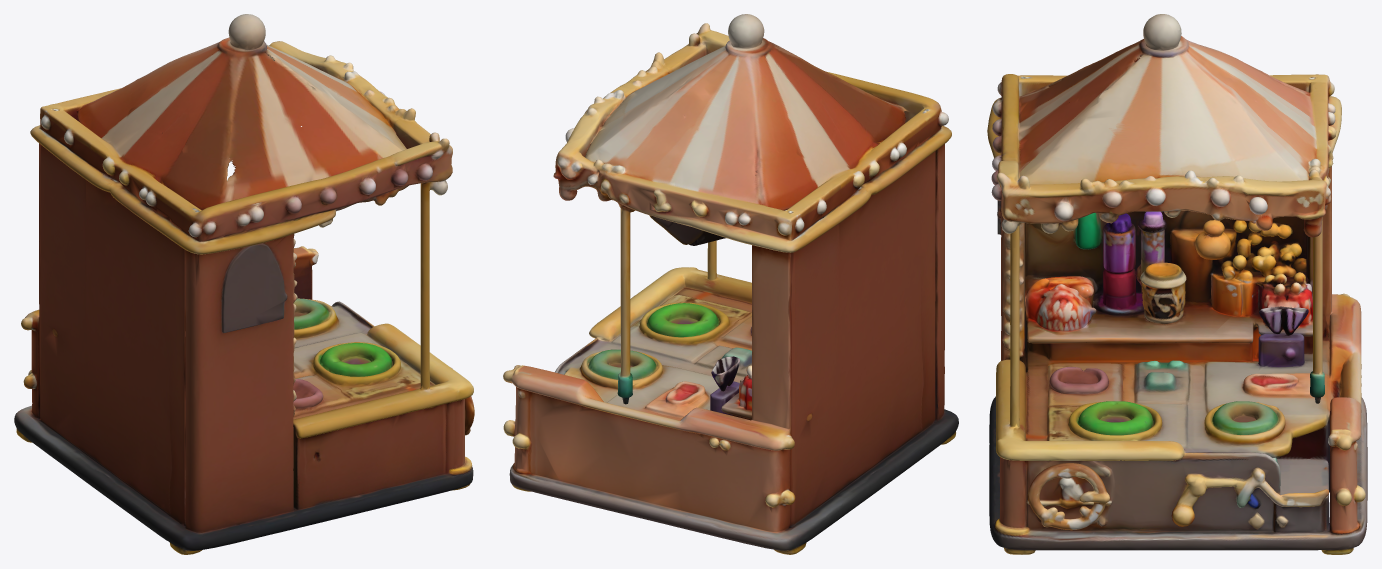
The model's file is building-ring-toss.glb.
3 renders of one model, left to right at view 1: azimuth 30°, elevation 25°; view 2: azimuth 150°, elevation 25°; view 3: azimuth 270°, elevation 25°, orthographic. The views are drawn at different scales.
Visible parts, largest first — view 1: tripo_node_3bd203f2-3d1e-4e14-b4ae-5f3b6ad76c27; view 2: tripo_node_3bd203f2-3d1e-4e14-b4ae-5f3b6ad76c27; view 3: tripo_node_3bd203f2-3d1e-4e14-b4ae-5f3b6ad76c27.
Boxes of the visible parts, x1=… form: tripo_node_3bd203f2-3d1e-4e14-b4ae-5f3b6ad76c27: x1=14, y1=14, x2=474, y2=554; tripo_node_3bd203f2-3d1e-4e14-b4ae-5f3b6ad76c27: x1=503, y1=14, x2=958, y2=554; tripo_node_3bd203f2-3d1e-4e14-b4ae-5f3b6ad76c27: x1=987, y1=14, x2=1367, y2=554.
Size of the model in its own units: 2.18 by 3 by 2.22.
1 material, 1 textured.
